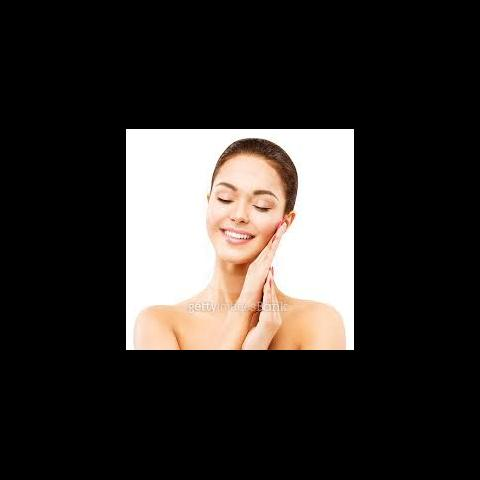closed: (210, 181, 281, 219)
